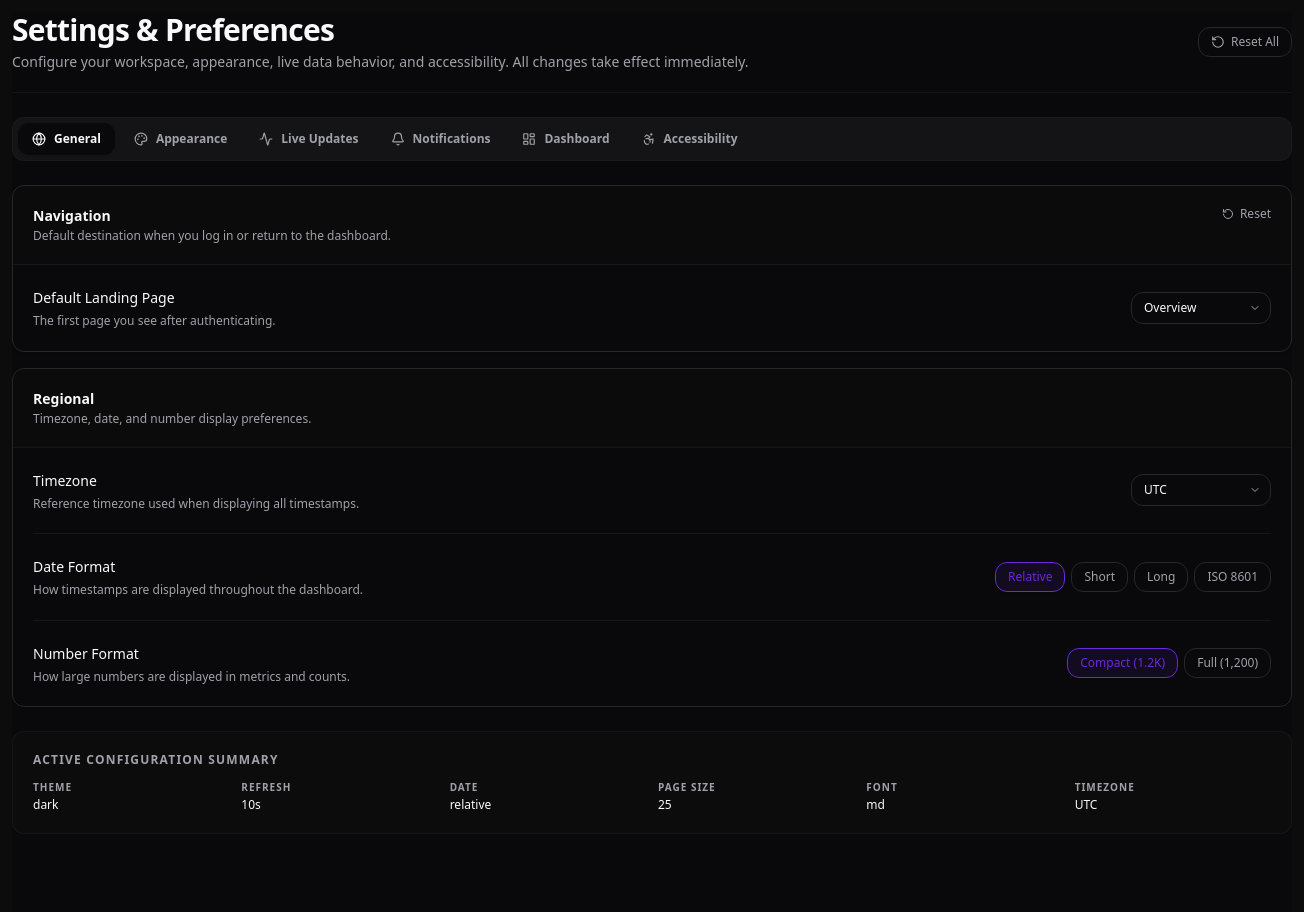
Scenario: Settings & User Preferences Module › shows scheduler, retry, and DLQ subsystem notification toggles
This screenshot has width=1304, height=912.
Click the tab "Notifications": x=441, y=139 [377, 122, 504, 156]
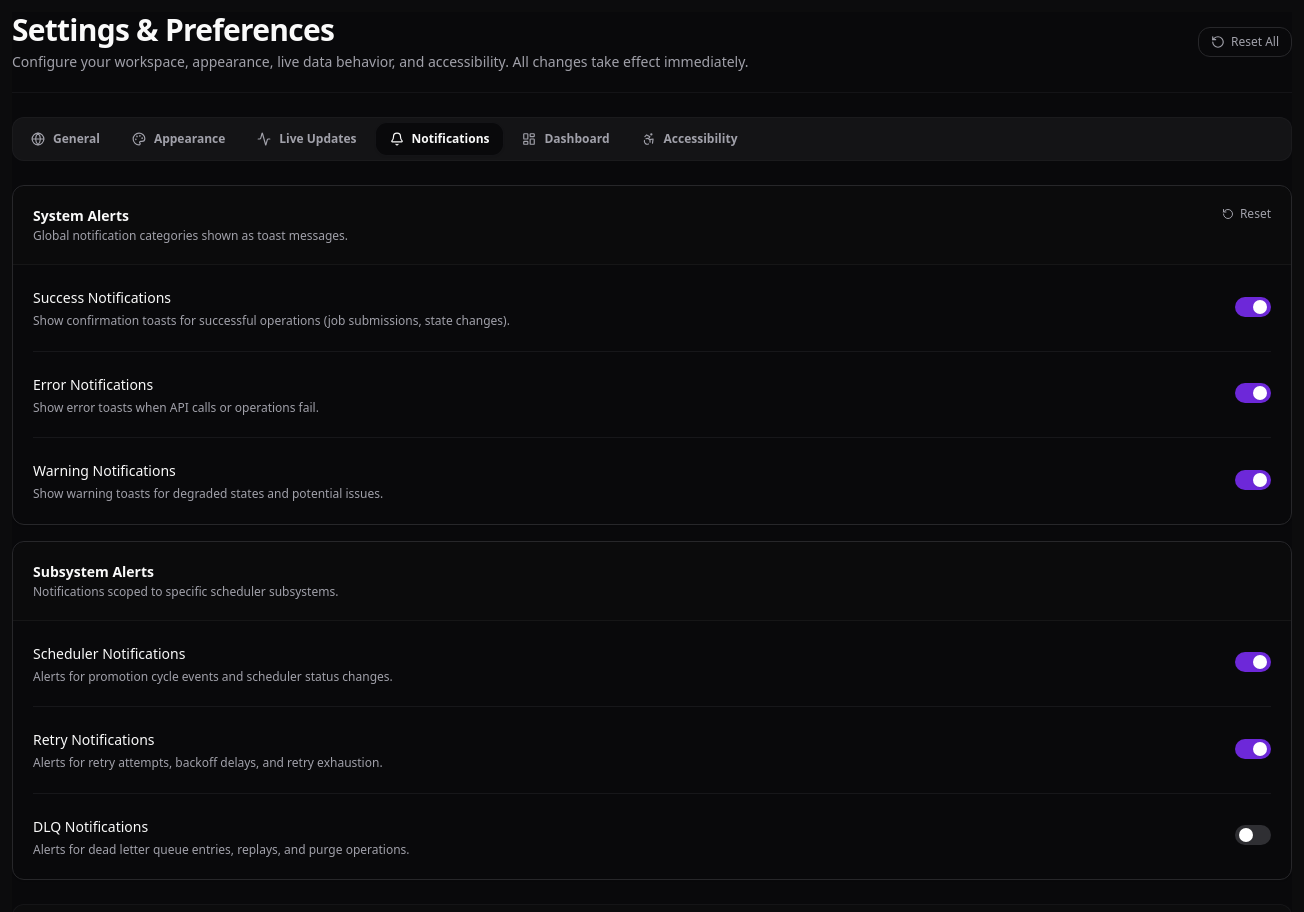
Now the switch named "scheduler notifications" in the row of "Scheduler Notifications" is shown, box [1235, 652, 1271, 672]
Now the switch named "retry notifications" in the row of "Retry Notifications" is shown, box [1235, 739, 1271, 759]
Now the switch named "dlq notifications" in the row of "DLQ Notifications" is shown, box [1235, 825, 1271, 845]
